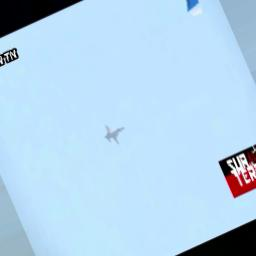Airplane: (104, 123, 126, 144)
